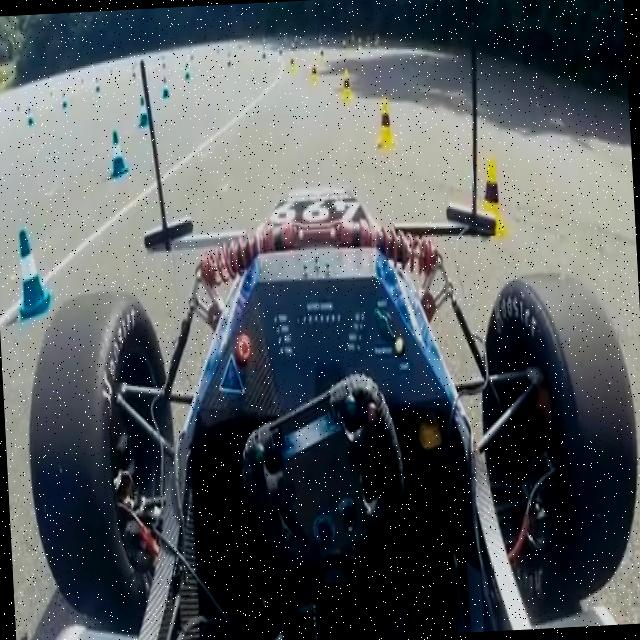blue_cone: (16, 228, 51, 324), (109, 130, 129, 181), (138, 96, 150, 128), (24, 104, 34, 128), (161, 75, 170, 100), (61, 90, 68, 110), (184, 63, 192, 80), (95, 78, 101, 94)
yellow_cone: (472, 158, 507, 240), (374, 100, 395, 150), (338, 66, 352, 105), (310, 62, 318, 86), (290, 58, 298, 77), (15, 102, 22, 120), (320, 47, 326, 65), (81, 76, 87, 94), (49, 89, 54, 105)
